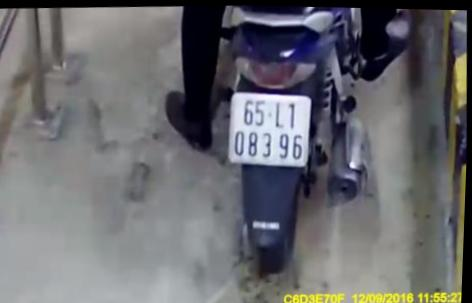LP: (228, 89, 315, 169)
